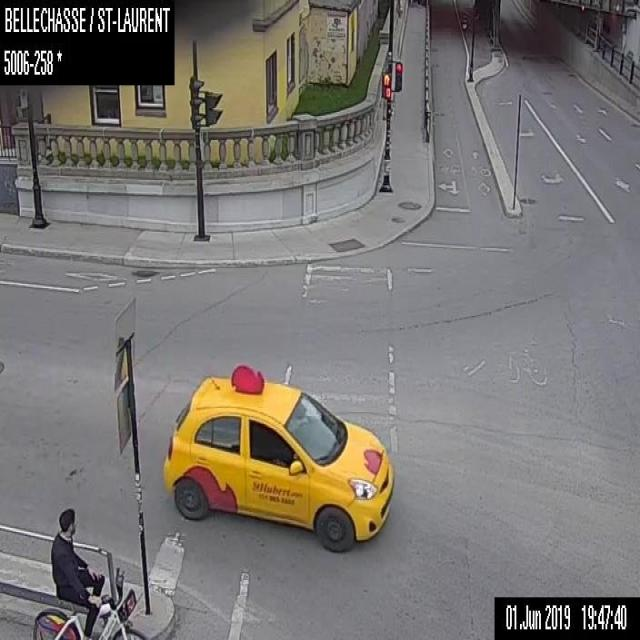cyclist: (32, 505, 148, 639)
vehicle: (163, 363, 393, 552)
